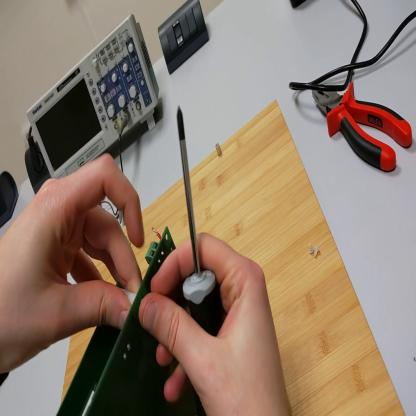hand: (2, 156, 147, 372), (141, 231, 294, 416)
low voltage board: (81, 228, 197, 416)
oscilloscope: (27, 11, 162, 178)
pliers: (313, 81, 413, 175)
screwdriver-: (177, 107, 226, 333)
socket: (26, 141, 51, 198), (2, 171, 21, 230)
welder station: (291, 2, 307, 9)
working area: (63, 100, 408, 413)
